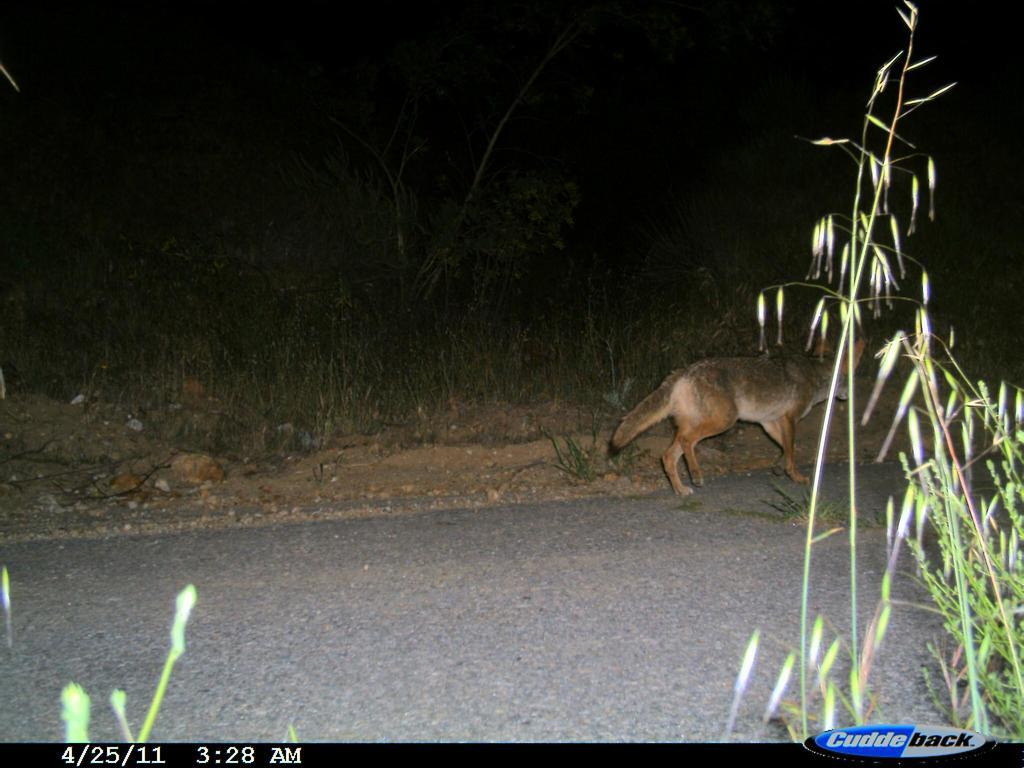coyote: (605, 335, 876, 501)
